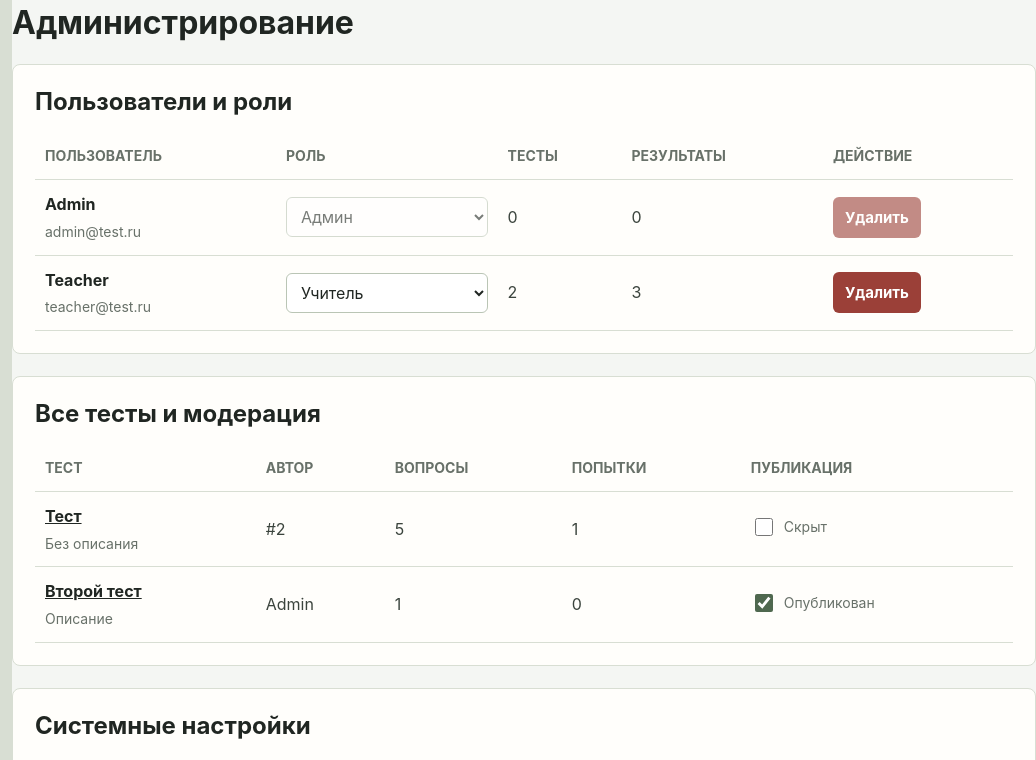
it: AdminDashboard › loads data and performs successful admin actions
The image size is (1036, 760).
Expected: the text "Загрузка админ-панели..." is shown, [12, 3, 354, 42]
Expected: the text "Teacher" is shown, [45, 270, 109, 290]
Select "Админ" in the dropdown next to "teacher@test.ru" at coordinates (387, 293), box [286, 273, 488, 313]
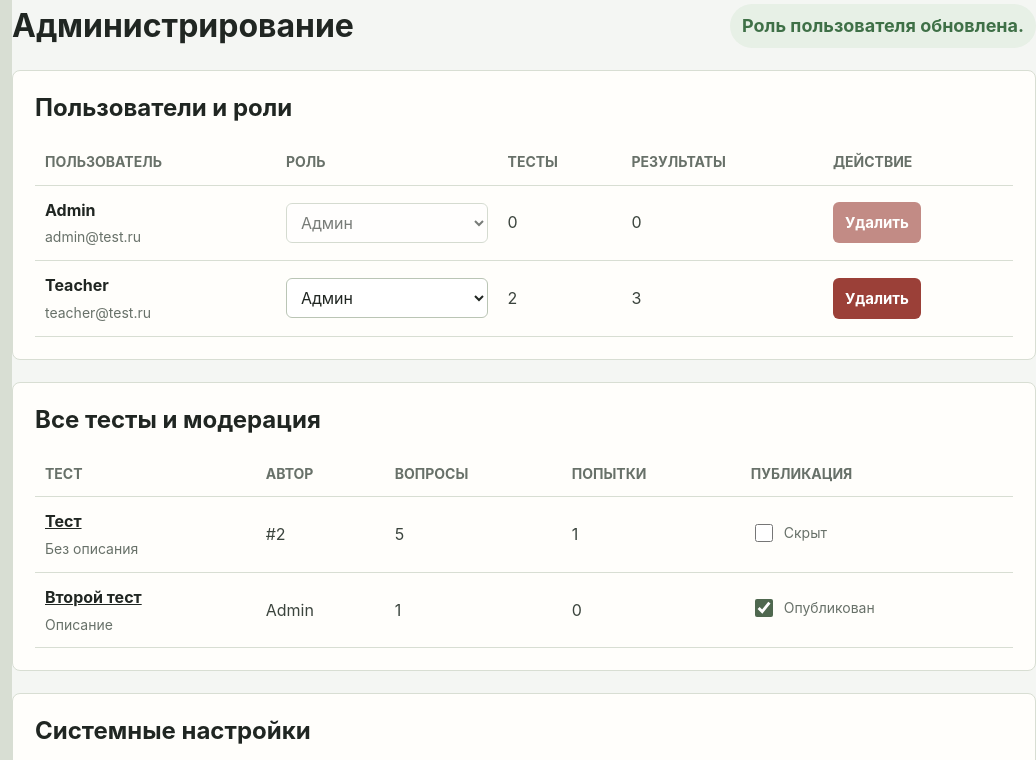
Now the text "Роль пользователя обновлена." is shown, box [730, 4, 1035, 48]
Click the button "Удалить" in the row of "teacher@test.ru" at coordinates (877, 298), box [833, 278, 921, 319]
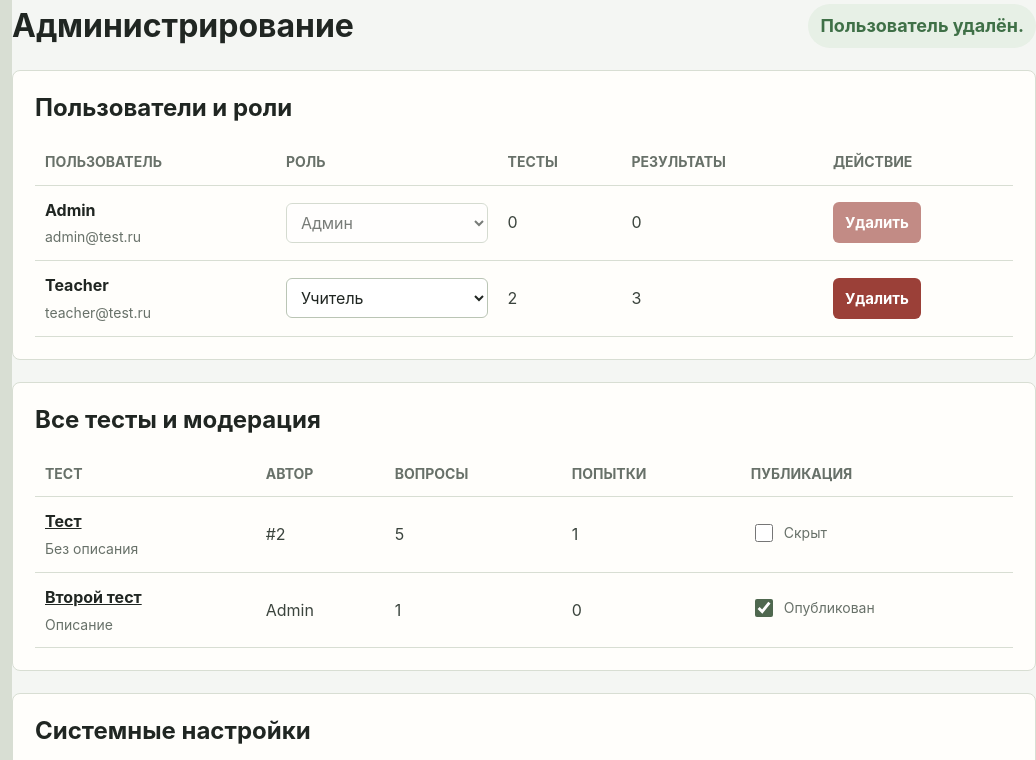
Click the checkbox labelled "Скрыт" at coordinates (764, 533), box [755, 524, 773, 542]
(page scrolled)
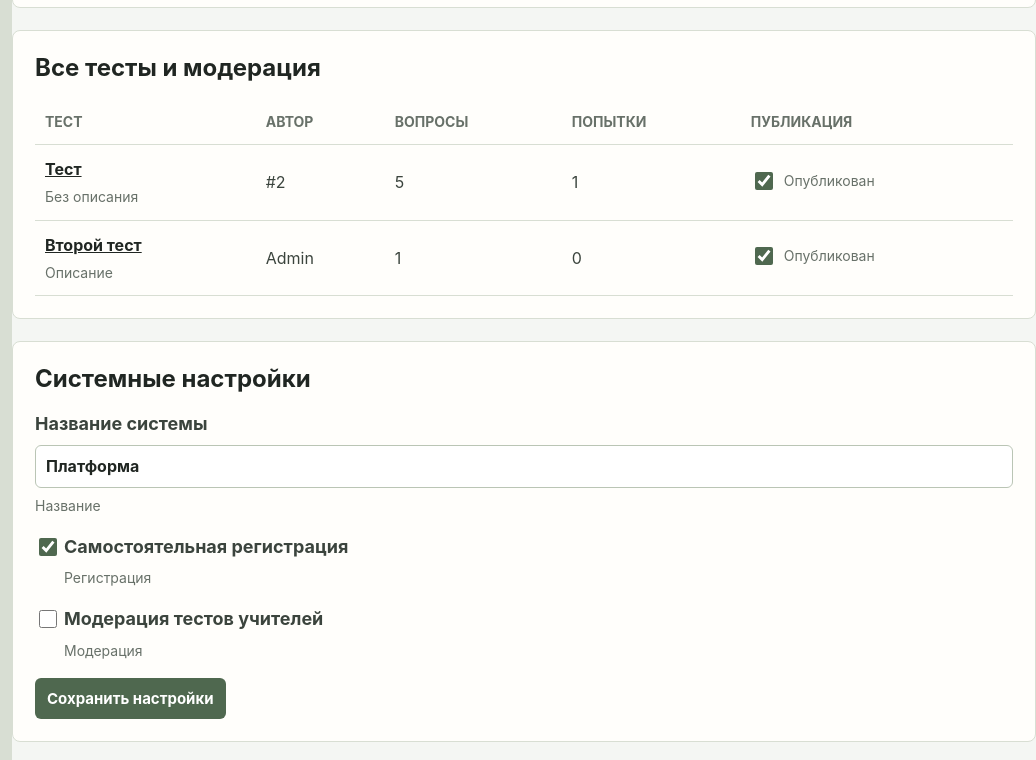
Replace the text in the field with "Новая" at coordinates (524, 466), box [35, 445, 1013, 488]
Click the checkbox labelled "Самостоятельная регистрация Регистрация" at coordinates (48, 546), box [39, 538, 57, 556]
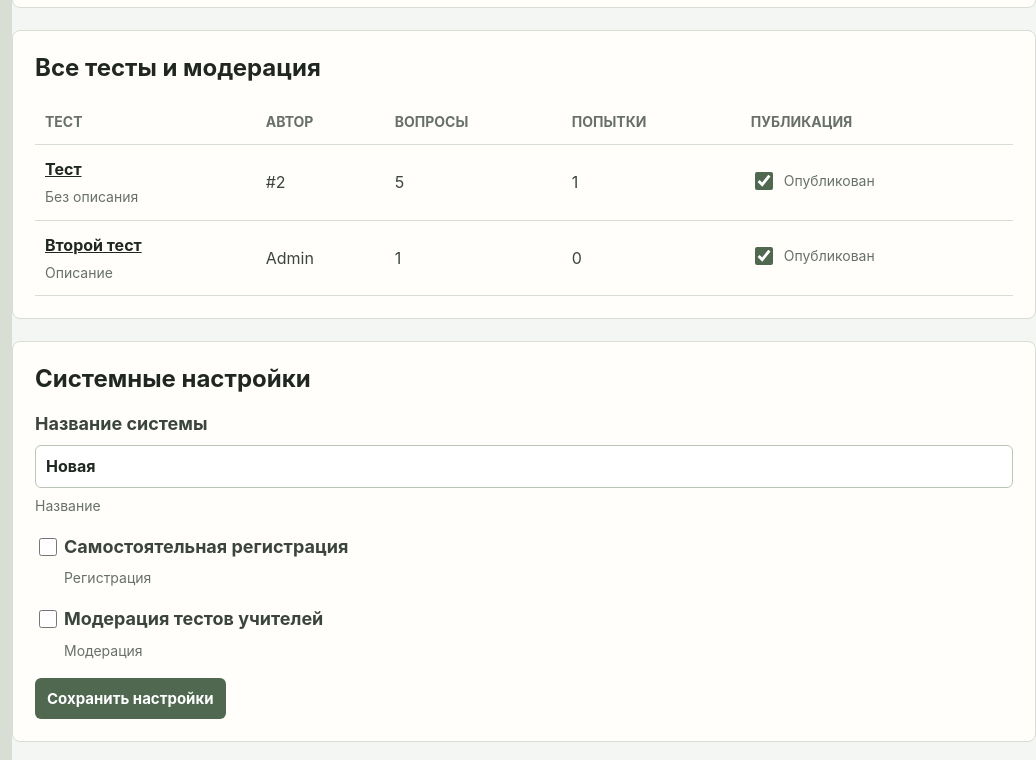
Click the checkbox labelled "Модерация тестов учителей Модерация" at coordinates (48, 619), box [39, 610, 57, 628]
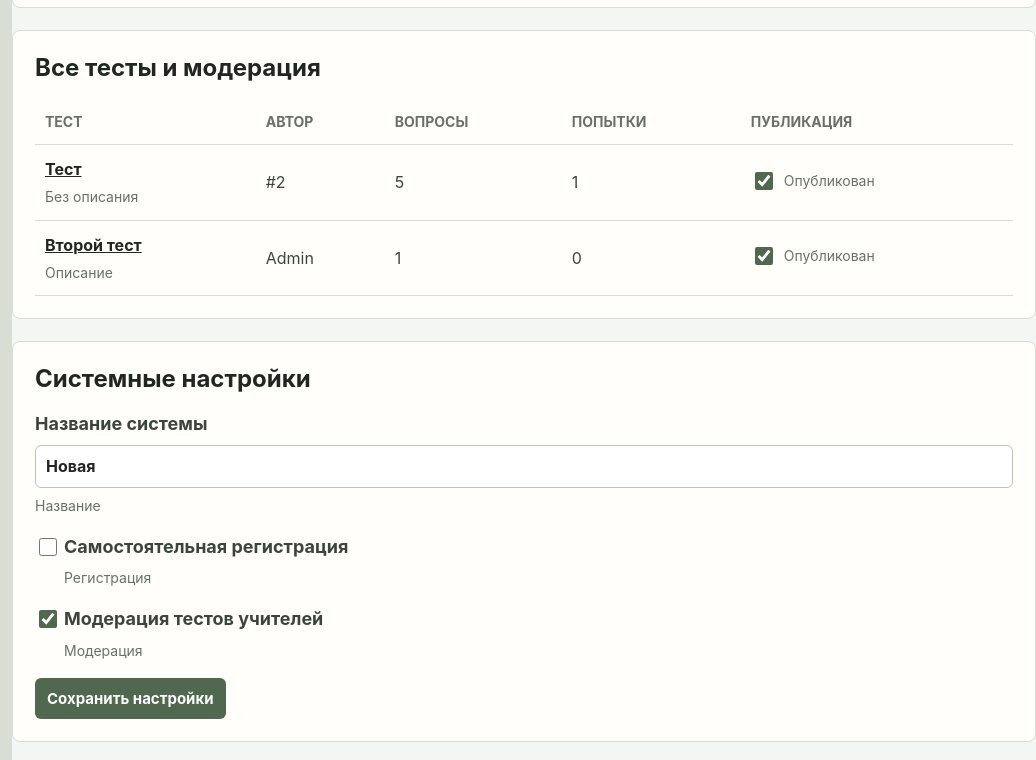
Submit the form named "Сохранить настройки", box [35, 410, 1013, 719]
(page scrolled)
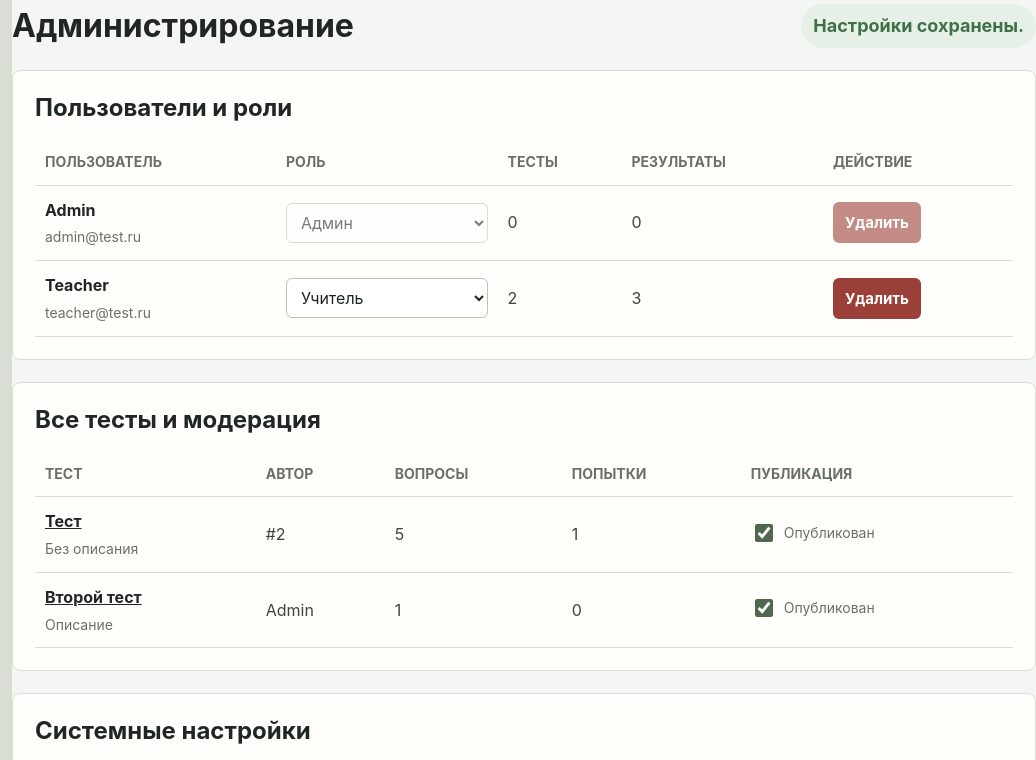
Now the text "Настройки сохранены." is shown, box [801, 4, 1035, 48]
